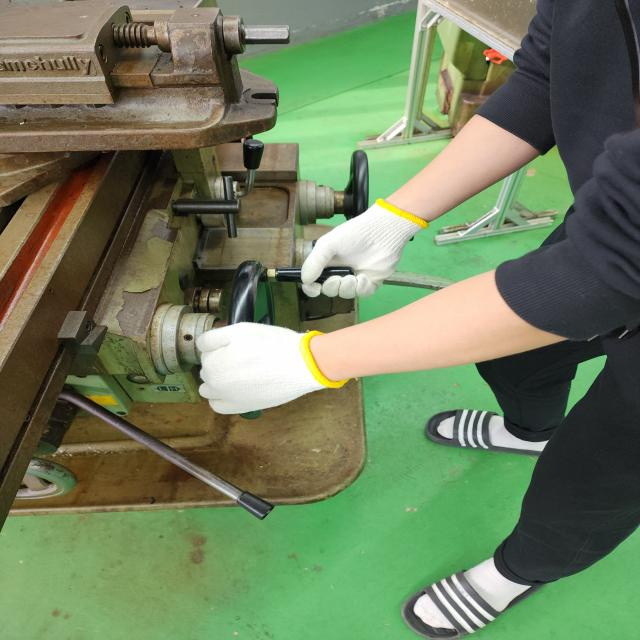Boots: (195, 323, 354, 414), (300, 198, 430, 299)
